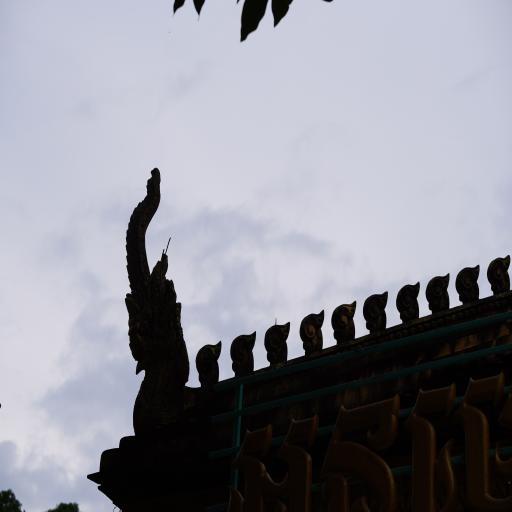lua: (327, 293, 360, 360), (418, 261, 452, 323), (193, 329, 224, 393), (294, 304, 328, 362), (225, 322, 257, 382), (360, 289, 392, 347), (484, 245, 512, 304), (390, 278, 425, 324), (454, 259, 482, 311), (266, 314, 288, 376)
ran: (117, 158, 196, 436)
